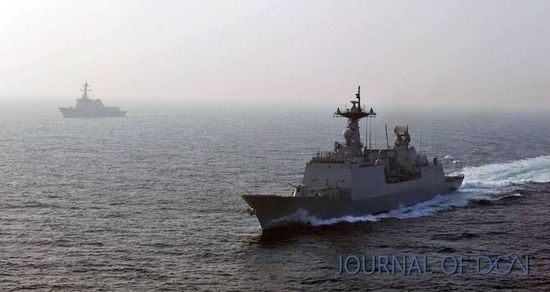warship: (240, 80, 464, 246), (58, 80, 128, 121)
